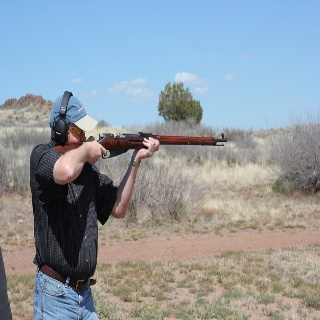rifle: (53, 131, 228, 159)
